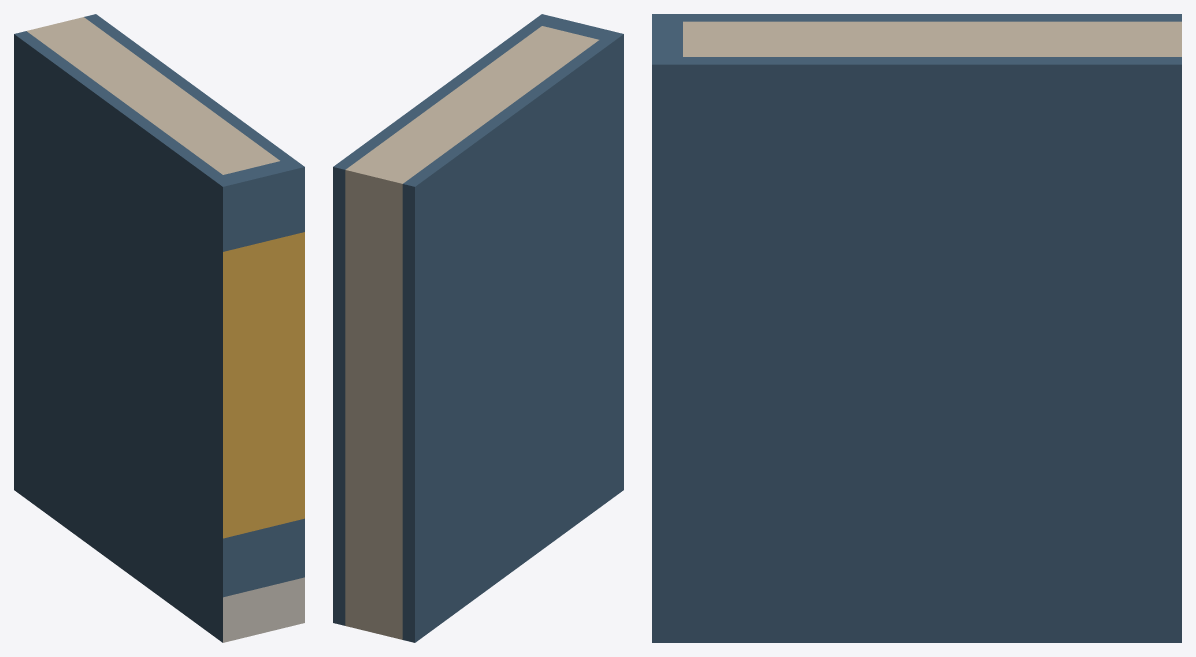
File: SM_Prop_Book_01.fbx
The picture shows the model from 3 angles, left to right: view 1: azimuth 30°, elevation 25°; view 2: azimuth 150°, elevation 25°; view 3: azimuth 270°, elevation 25°; orthographic projection. The views are drawn at different scales.
Parts seen in each view (by area): view 1: SM_Prop_Book_01; view 2: SM_Prop_Book_01; view 3: SM_Prop_Book_01.
Boxes of the visible parts, x1,y1,x2,y2 form: SM_Prop_Book_01: [14, 14, 304, 642]; SM_Prop_Book_01: [333, 14, 623, 642]; SM_Prop_Book_01: [652, 14, 1181, 642].
Size of the model in its own units: 6.5 by 34.54 by 28.68.
